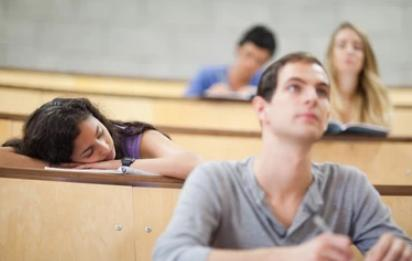sleep: (0, 98, 196, 183)
study: (150, 53, 412, 261)
